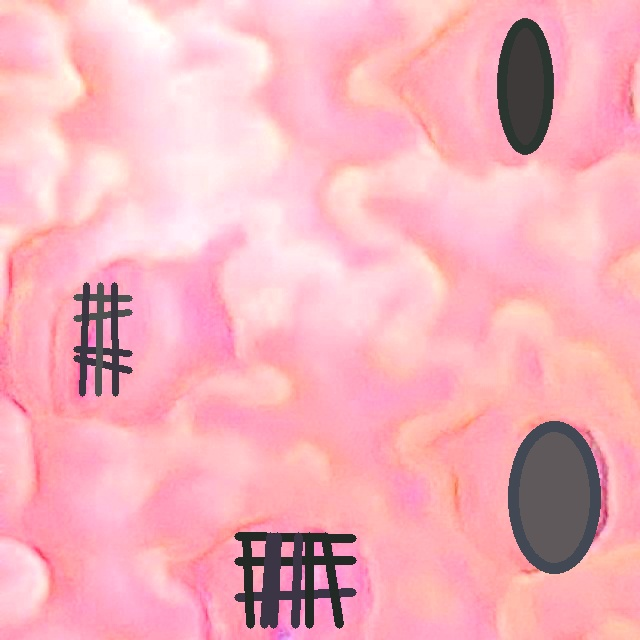close: (508, 421, 601, 573)
open: (235, 532, 356, 628), (497, 18, 553, 154), (73, 282, 132, 396)
